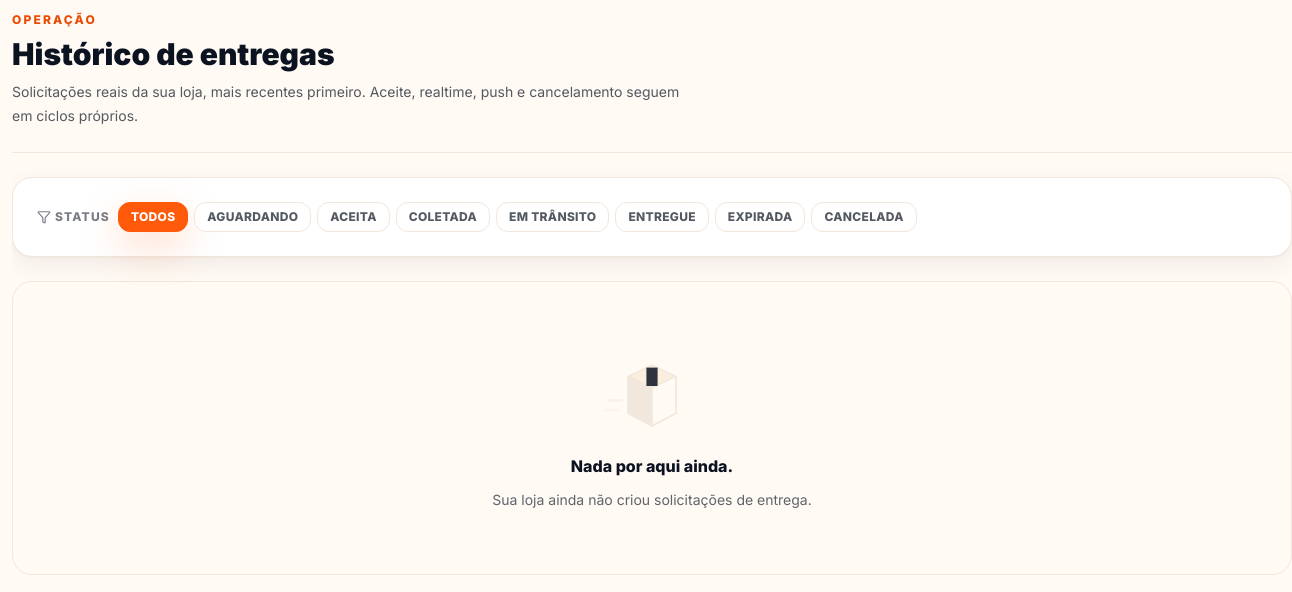
Test case: HistoricoEntregas › keeps status filtering scoped to the list endpoint
Expected: the text "Nada por aqui ainda." is shown, [571,454,733,478]
Click the button "Entregue".
click(662, 217)  # box [615,202,709,232]
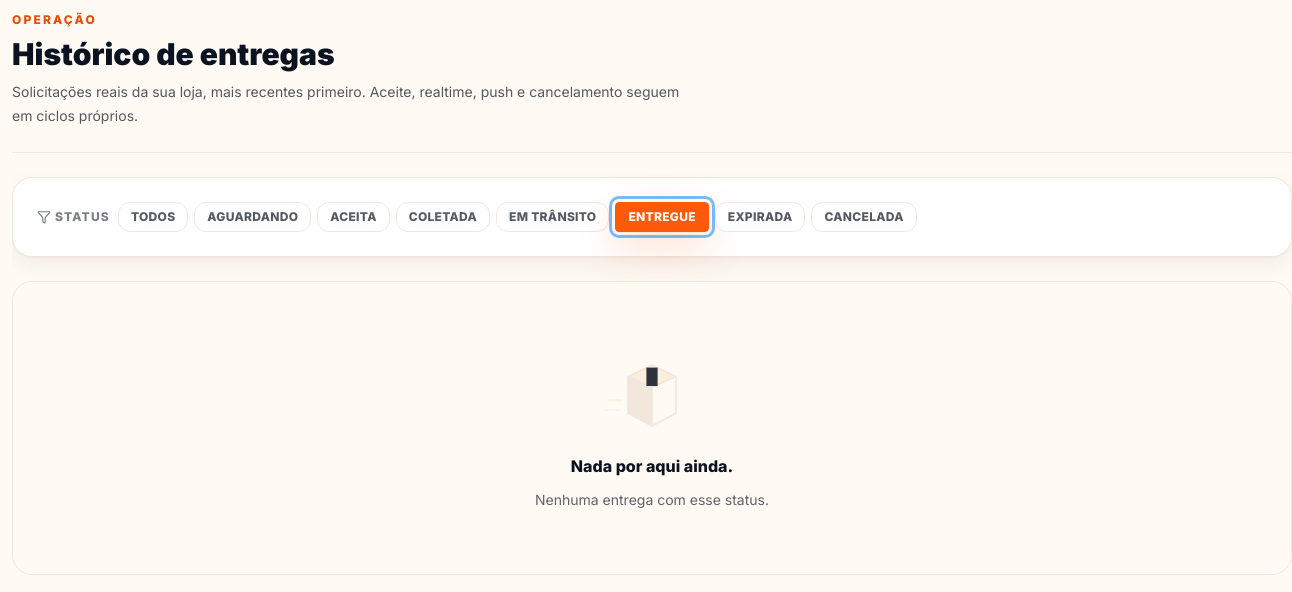
Result: the text "Nenhuma entrega com esse status." is shown at [535,490,769,510]
